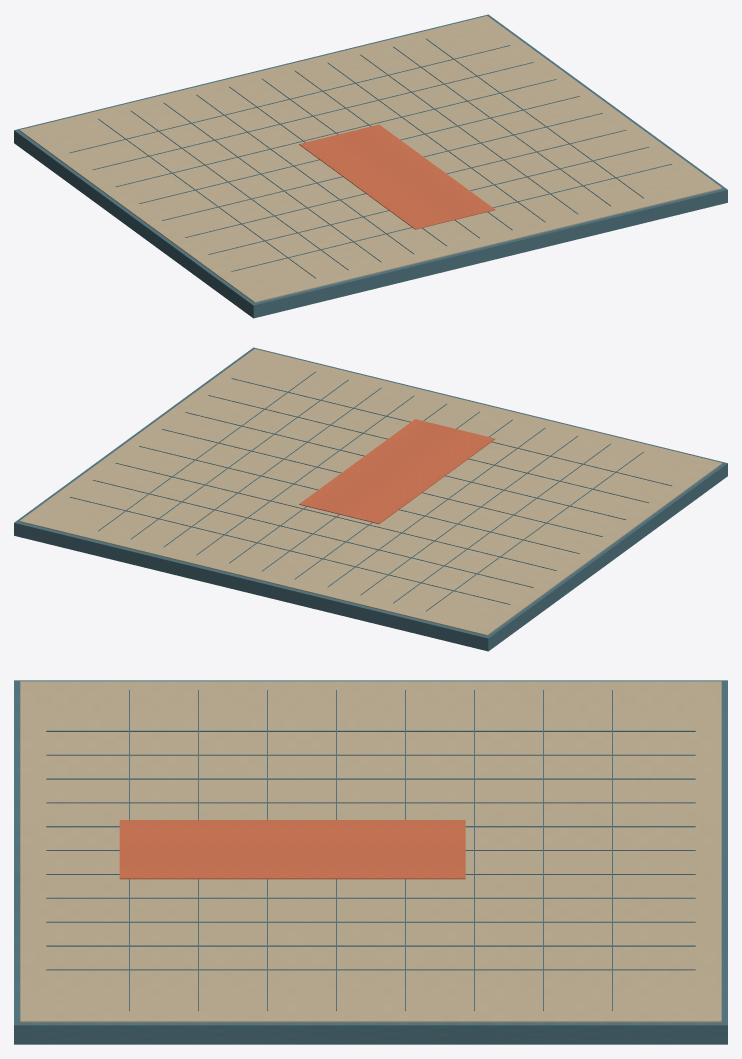
The model's file is atlas100-s041-a07.glb.
3 views of the same model, one above another, from view 1: azimuth 30°, elevation 25°; view 2: azimuth 150°, elevation 25°; view 3: azimuth 270°, elevation 25° (orthographic). The views are drawn at different scales.
Parts seen in each view (by area): view 1: atlas100-s041-a07:part-001, atlas100-s041-a07:part-000, atlas100-s041-a07:part-021, atlas100-s041-a07:part-013, atlas100-s041-a07:part-015, atlas100-s041-a07:part-014, atlas100-s041-a07:part-020, atlas100-s041-a07:part-018, atlas100-s041-a07:part-019, atlas100-s041-a07:part-017, atlas100-s041-a07:part-016; view 2: atlas100-s041-a07:part-001, atlas100-s041-a07:part-000, atlas100-s041-a07:part-021, atlas100-s041-a07:part-013, atlas100-s041-a07:part-014, atlas100-s041-a07:part-015, atlas100-s041-a07:part-020, atlas100-s041-a07:part-019, atlas100-s041-a07:part-018, atlas100-s041-a07:part-016, atlas100-s041-a07:part-017; view 3: atlas100-s041-a07:part-001, atlas100-s041-a07:part-000, atlas100-s041-a07:part-021, atlas100-s041-a07:part-004, atlas100-s041-a07:part-010, atlas100-s041-a07:part-011, atlas100-s041-a07:part-012, atlas100-s041-a07:part-005, atlas100-s041-a07:part-009, atlas100-s041-a07:part-003, atlas100-s041-a07:part-002, atlas100-s041-a07:part-006.
Boxes of the visible parts, x1,y1,x2,y2 form: atlas100-s041-a07:part-001: [19, 16, 722, 302]; atlas100-s041-a07:part-000: [14, 14, 727, 318]; atlas100-s041-a07:part-021: [299, 124, 495, 229]; atlas100-s041-a07:part-013: [70, 45, 510, 152]; atlas100-s041-a07:part-015: [115, 79, 556, 186]; atlas100-s041-a07:part-014: [93, 62, 533, 169]; atlas100-s041-a07:part-020: [231, 164, 671, 271]; atlas100-s041-a07:part-018: [185, 130, 626, 237]; atlas100-s041-a07:part-019: [208, 147, 648, 254]; atlas100-s041-a07:part-017: [162, 113, 602, 220]; atlas100-s041-a07:part-016: [139, 96, 579, 203]; atlas100-s041-a07:part-001: [19, 349, 722, 635]; atlas100-s041-a07:part-000: [14, 347, 727, 651]; atlas100-s041-a07:part-021: [299, 419, 494, 523]; atlas100-s041-a07:part-013: [70, 497, 510, 604]; atlas100-s041-a07:part-014: [93, 480, 533, 587]; atlas100-s041-a07:part-015: [115, 463, 556, 570]; atlas100-s041-a07:part-020: [231, 378, 671, 485]; atlas100-s041-a07:part-019: [208, 395, 648, 502]; atlas100-s041-a07:part-018: [185, 412, 626, 519]; atlas100-s041-a07:part-016: [139, 446, 579, 553]; atlas100-s041-a07:part-017: [162, 429, 602, 536]; atlas100-s041-a07:part-001: [20, 681, 721, 1022]; atlas100-s041-a07:part-000: [14, 680, 727, 1044]; atlas100-s041-a07:part-021: [119, 820, 465, 879]; atlas100-s041-a07:part-004: [46, 778, 695, 779]; atlas100-s041-a07:part-010: [46, 921, 695, 922]; atlas100-s041-a07:part-011: [46, 945, 695, 946]; atlas100-s041-a07:part-012: [46, 969, 695, 970]; atlas100-s041-a07:part-005: [46, 802, 695, 803]; atlas100-s041-a07:part-009: [46, 897, 695, 898]; atlas100-s041-a07:part-003: [46, 754, 695, 755]; atlas100-s041-a07:part-002: [46, 730, 695, 731]; atlas100-s041-a07:part-006: [46, 826, 695, 827].
Size of the model in its own units: 13.02 by 0.404 by 11.39.
Materials: 3 (3 with a texture image).
